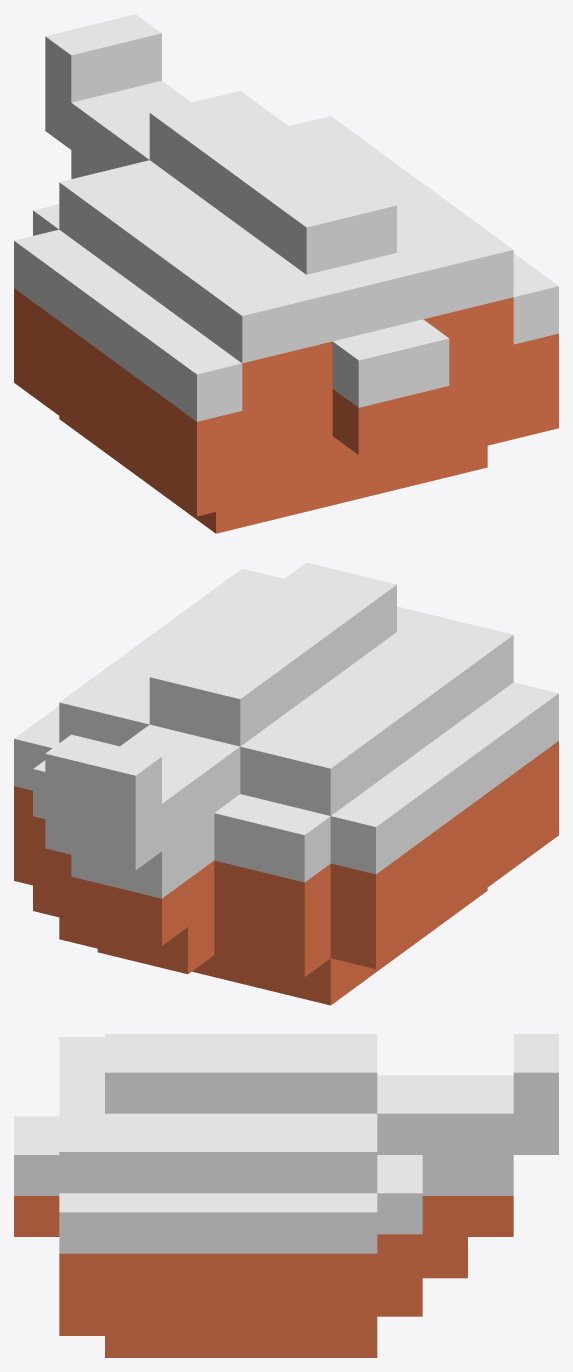
3 renders of one model, top to bottom at view 1: azimuth 30°, elevation 25°; view 2: azimuth 150°, elevation 25°; view 3: azimuth 270°, elevation 25°, orthographic. The views are drawn at different scales.
Visible parts, largest first — view 1: 40; view 2: 40; view 3: 40.
Part boxes in pixels (x1,y1,x2,y2): 40: [14, 14, 558, 533]; 40: [14, 562, 558, 1005]; 40: [14, 1034, 558, 1357].
Bounding box in the file's own units: 80 × 60 × 120.
Materials: 1 (1 with a texture image).
